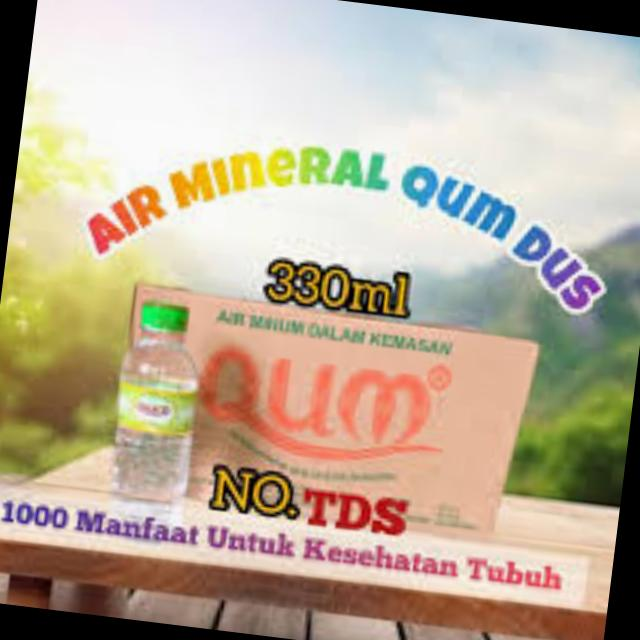trash: (99, 294, 211, 518)
